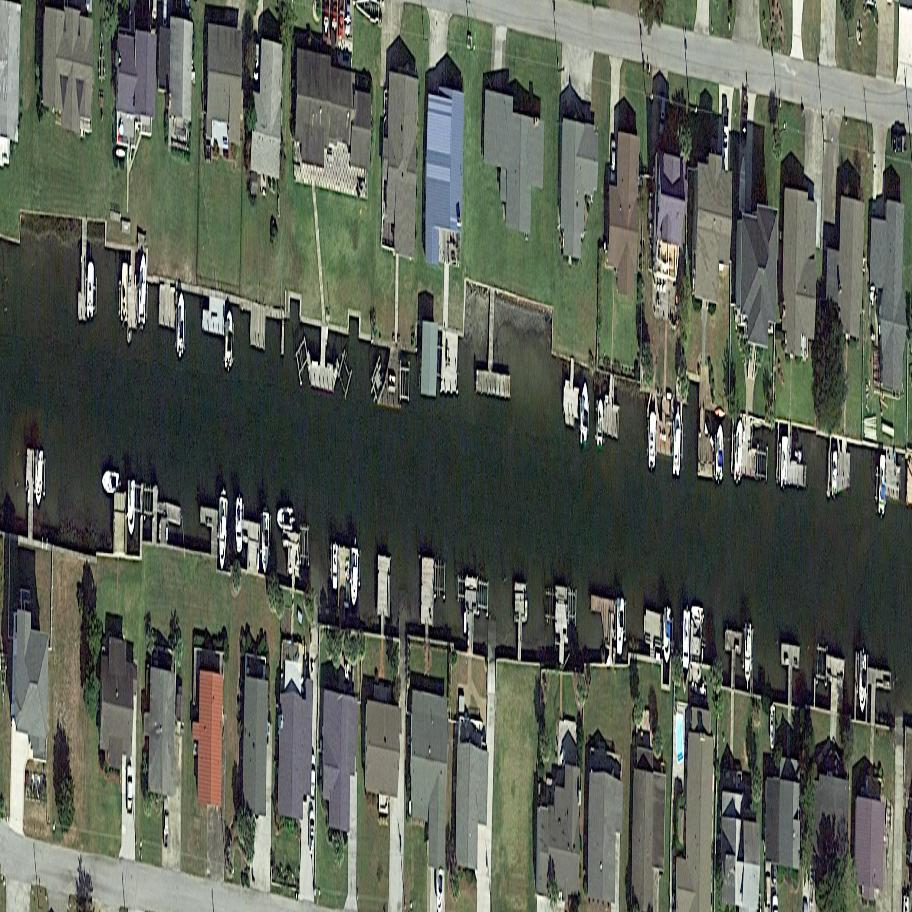ship: (218, 496, 228, 576), (175, 289, 186, 361), (733, 417, 744, 487), (672, 405, 682, 481), (138, 253, 147, 333), (579, 380, 589, 448), (857, 650, 867, 716), (877, 453, 887, 518), (223, 309, 233, 372), (737, 153, 747, 215), (647, 410, 657, 472), (34, 449, 44, 509), (715, 422, 724, 488), (743, 624, 752, 690), (261, 511, 270, 575), (616, 595, 625, 658), (86, 260, 95, 321), (120, 262, 129, 323), (100, 468, 120, 495), (350, 547, 359, 606), (682, 610, 690, 672), (127, 479, 135, 540), (663, 606, 671, 664), (235, 497, 243, 554), (780, 434, 788, 490), (275, 504, 293, 528), (596, 396, 603, 449), (331, 540, 338, 590), (769, 705, 776, 754), (832, 450, 838, 500)
small-vehicle: (764, 859, 772, 908), (740, 100, 748, 148), (722, 109, 729, 160), (163, 798, 169, 850), (253, 44, 260, 88), (126, 763, 132, 814), (659, 97, 666, 136), (610, 140, 616, 185), (310, 754, 315, 801), (309, 807, 314, 853)
